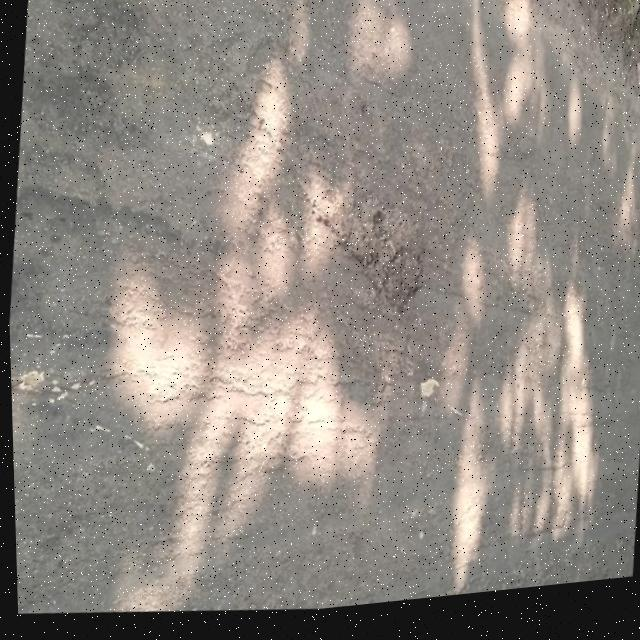pothole: (286, 182, 446, 340)
